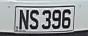2: (29, 6, 41, 33)
3: (42, 8, 53, 32)
6: (62, 6, 73, 33)
9: (52, 7, 62, 32)
N: (18, 5, 29, 34)
